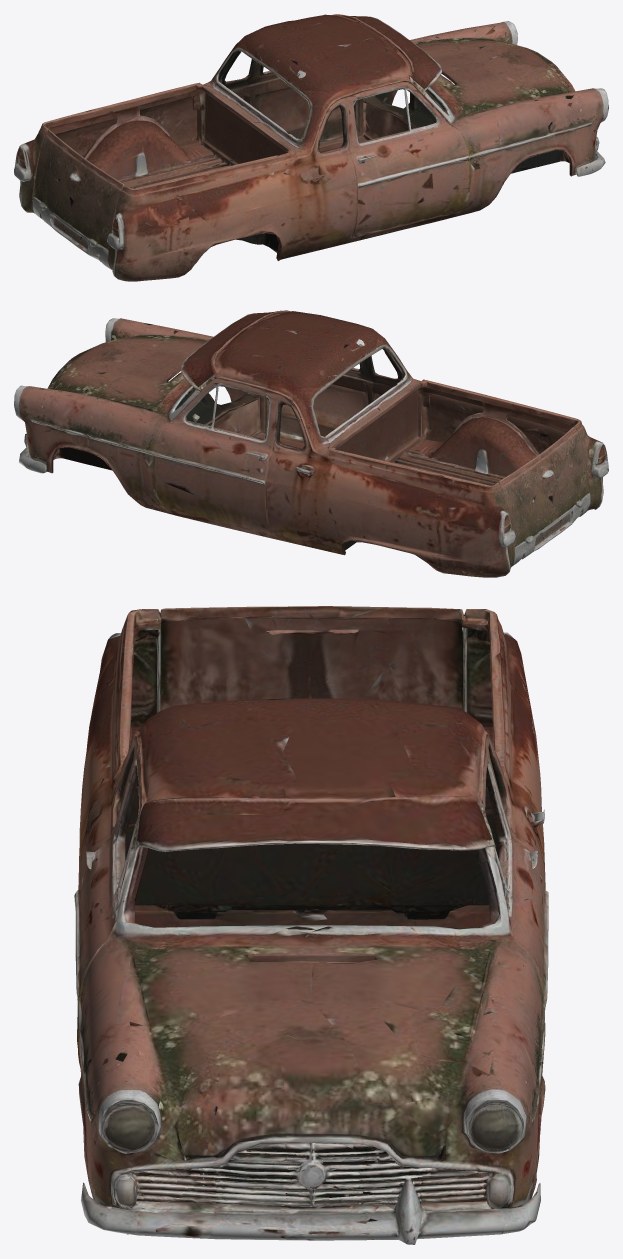
The model's file is relic_ute.glb.
The picture shows the model from 3 angles, top to bottom: view 1: azimuth 30°, elevation 25°; view 2: azimuth 150°, elevation 25°; view 3: azimuth 270°, elevation 25°; orthographic projection. The views are drawn at different scales.
Visible parts, largest first — view 1: relic_ute; view 2: relic_ute; view 3: relic_ute.
Boxes of the visible parts, <box> form: relic_ute: <box>14,14,608,281</box>; relic_ute: <box>14,310,608,577</box>; relic_ute: <box>74,606,548,1244</box>.
Size of the model in its own units: 4.7 by 1.42 by 1.93.
1 material, 1 textured.
